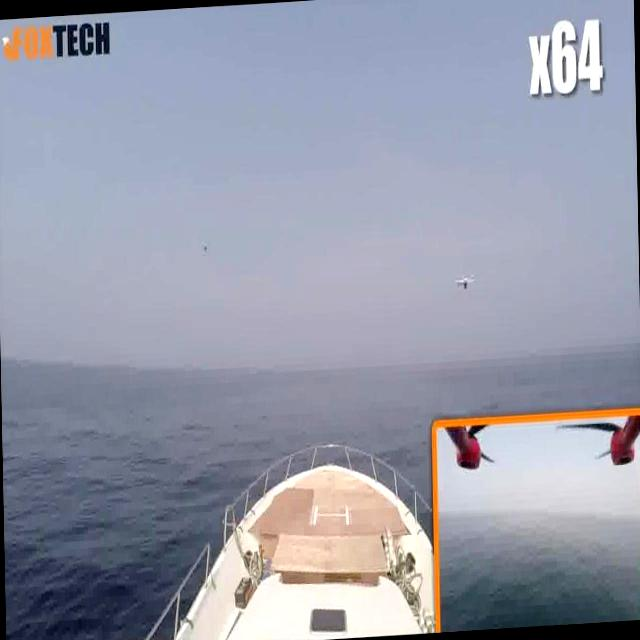drone: (453, 267, 477, 296)
